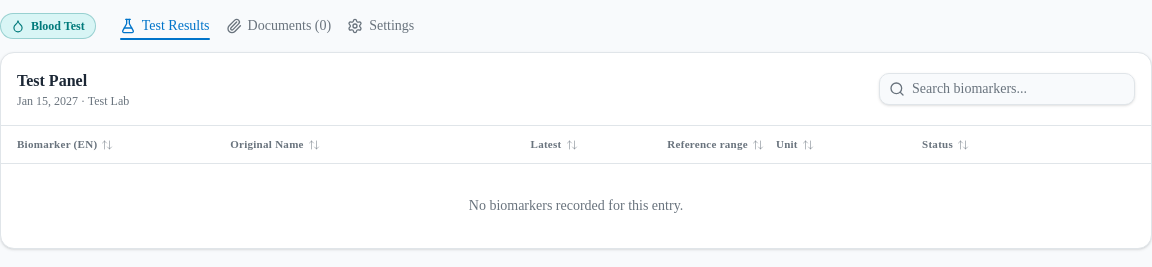
Test: BloodTestDetails › shows empty state when no attachments
The width and height of the screenshot is (1152, 267).
Step 1. Click the tab "Documents (0)" → click(278, 26), box [218,12,339,40]
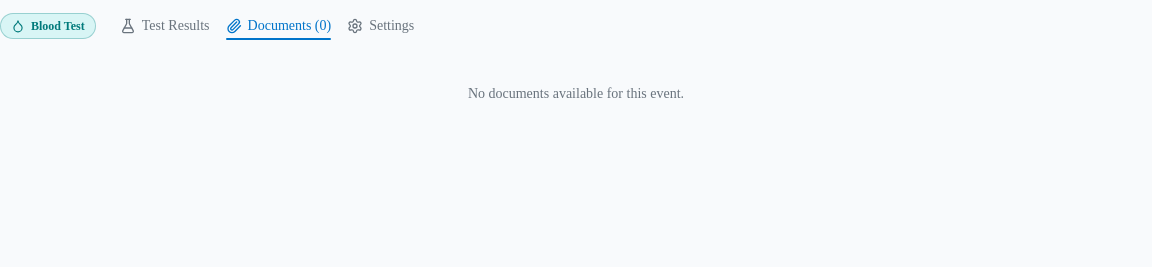
Check: the text "No documents available for this event." is shown, box [468,86,684,101]
